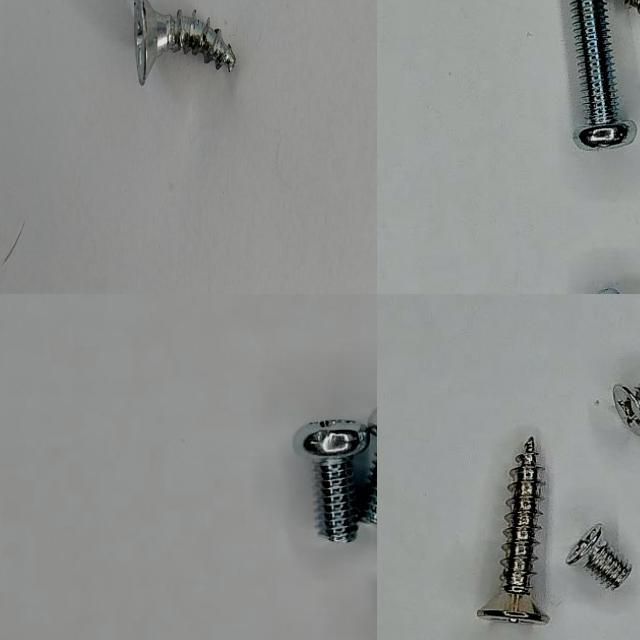Screw: (476, 437, 549, 624), (570, 0, 636, 149), (294, 420, 369, 543), (134, 0, 236, 84), (565, 524, 631, 591), (613, 383, 640, 434)
